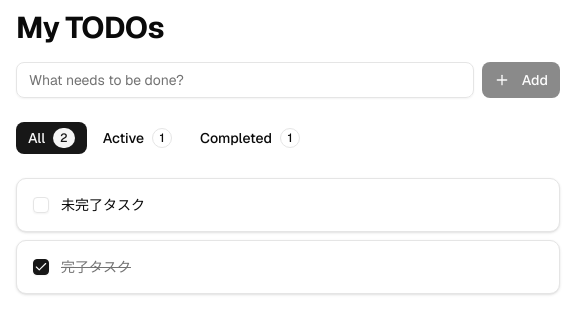
Test case: TodoPage — フィルタリング › Completed フィルターで完了済みのみ表示される
Check: the text "未完了タスク" is shown, box [61, 196, 145, 214]
Click the button "Completed 1".
click(250, 138)  # box [188, 122, 312, 154]
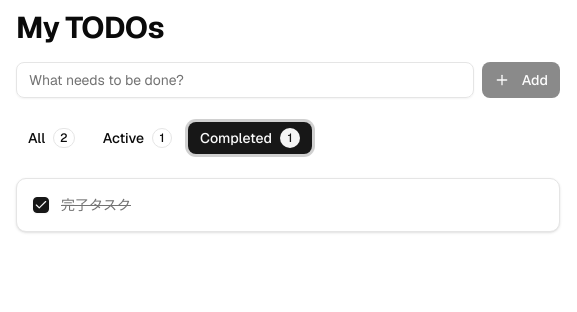
Check: the text "完了タスク" is shown, box [61, 196, 131, 214]
Check: the text "未完了タスク" is gone
